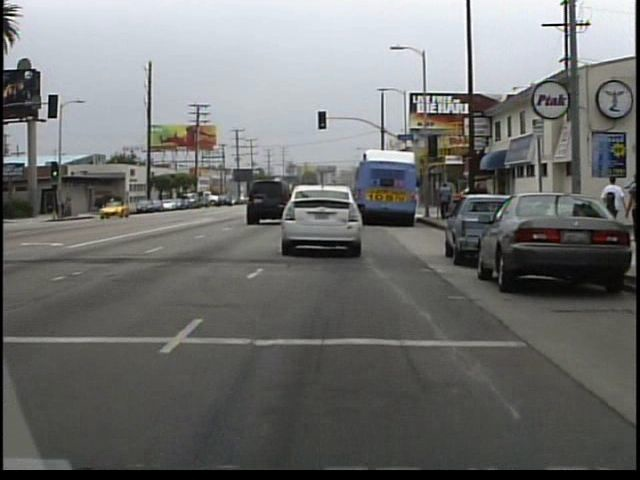person: (599, 169, 626, 239), (435, 181, 453, 217), (109, 193, 122, 217)
